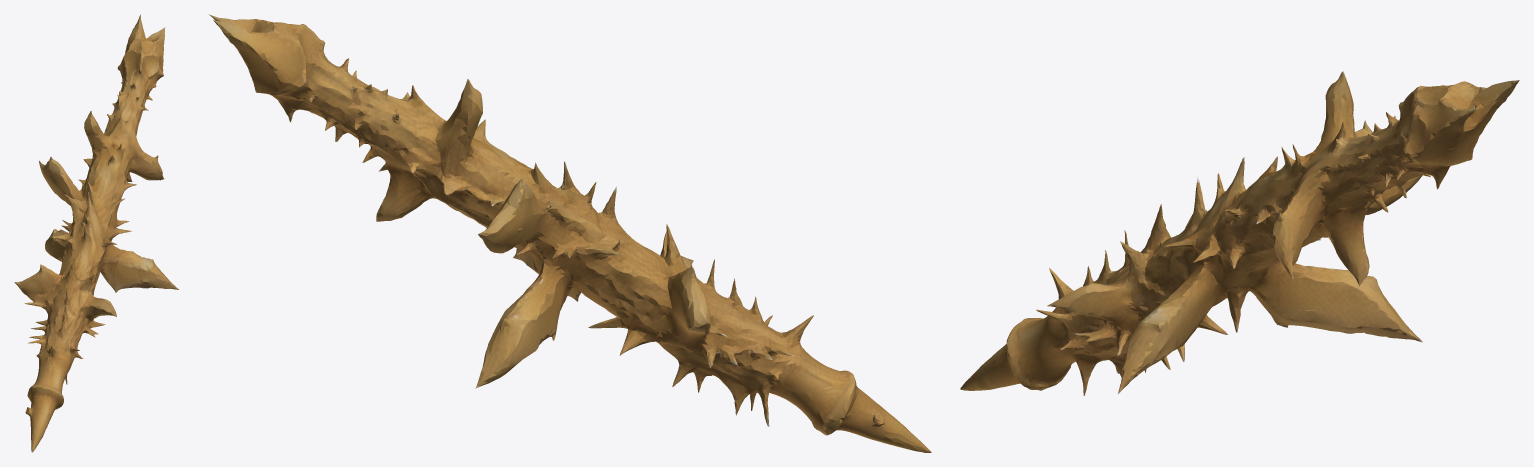
3 renders of one model, left to right at view 1: azimuth 30°, elevation 25°; view 2: azimuth 150°, elevation 25°; view 3: azimuth 270°, elevation 25°, orthographic. The views are drawn at different scales.
Visible parts, largest first — view 1: 052; view 2: 052; view 3: 052.
Boxes of the visible parts, left/top/right/bottom form: 052: left=14, top=14, right=179, bottom=452; 052: left=209, top=14, right=931, bottom=452; 052: left=960, top=71, right=1519, bottom=395.
Bounding box in the file's own units: 1.75 × 1.76 × 1.62.
1 material, 1 textured.
